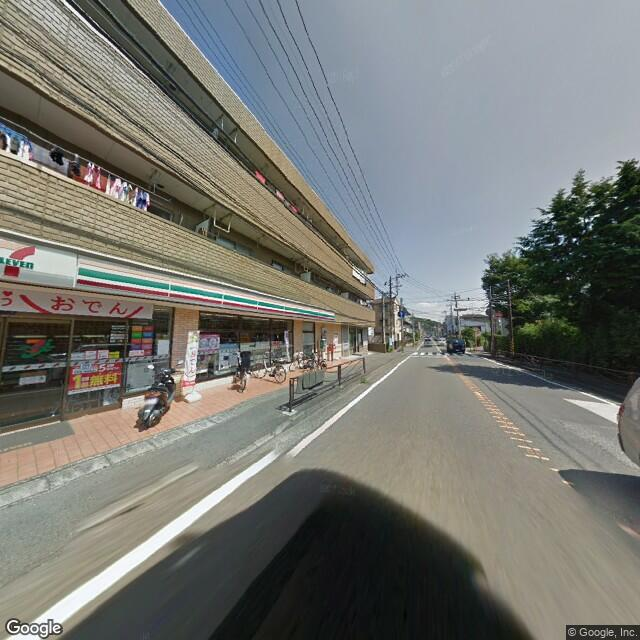7-eleven: (1, 233, 336, 323)
